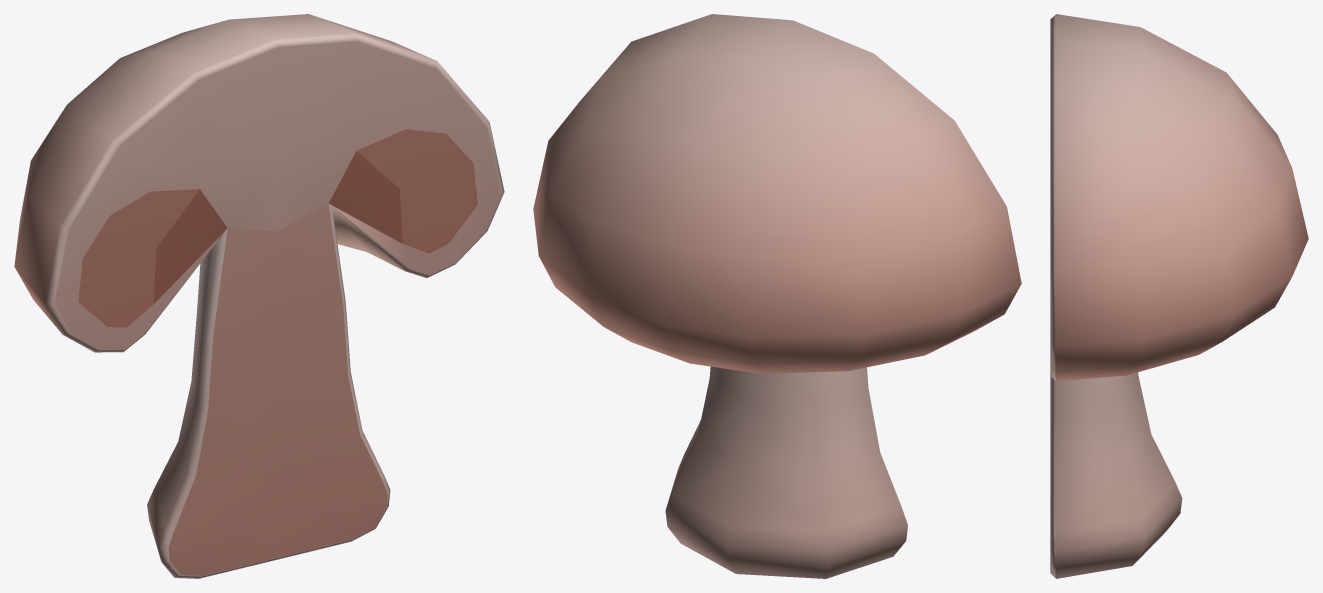
The model's file is mushroom_004.fbx.
3 renders of one model, left to right at view 1: azimuth 30°, elevation 25°; view 2: azimuth 150°, elevation 25°; view 3: azimuth 270°, elevation 25°, orthographic. The views are drawn at different scales.
Visible parts, largest first — view 1: mushroom_004; view 2: mushroom_004; view 3: mushroom_004.
Boxes of the visible parts, x1,y1,x2,y2 form: mushroom_004: [14, 14, 504, 578]; mushroom_004: [533, 14, 1021, 578]; mushroom_004: [1050, 14, 1308, 578].
Bounding box in the file's own units: 6.31 × 3.21 × 6.84.
